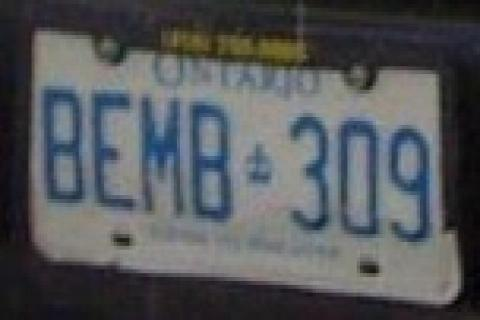LicensePlate: (20, 22, 462, 294)
